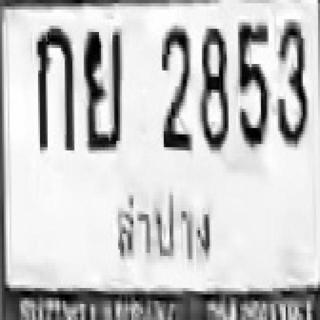A01: (34, 24, 72, 149)
A34: (82, 26, 120, 147)
N02: (160, 22, 190, 147)
N03: (275, 18, 308, 142)
N05: (236, 18, 267, 146)
N08: (198, 24, 227, 149)
P20: (108, 186, 221, 273)
